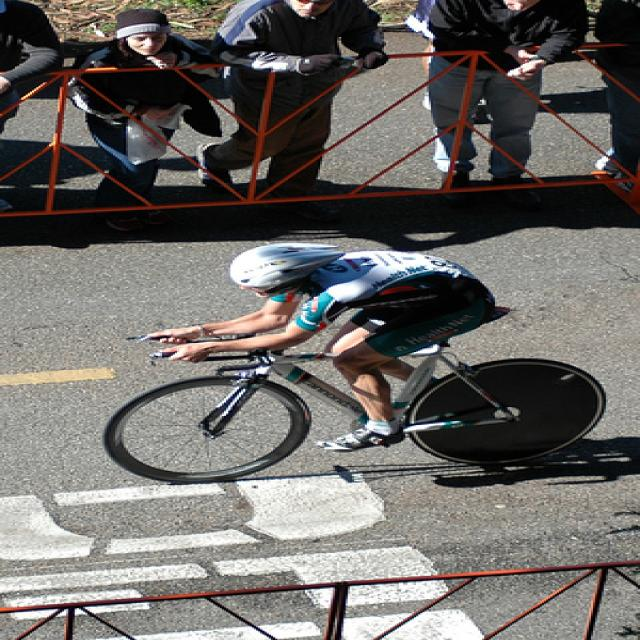bicycle: (103, 308, 609, 485)
person: (146, 243, 502, 453), (193, 1, 389, 193), (63, 7, 223, 238), (409, 1, 588, 193), (592, 1, 639, 193), (1, 1, 65, 130)
